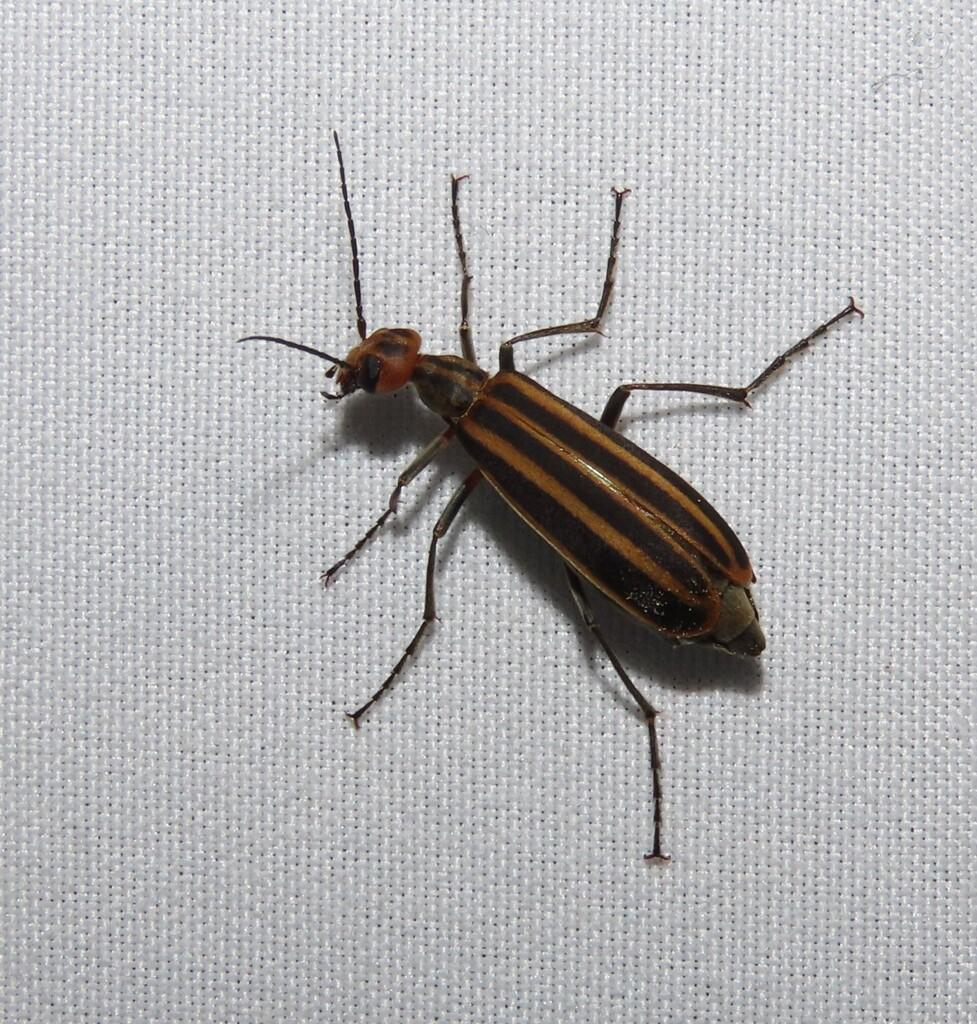blister_beetle: (180, 78, 936, 944)
